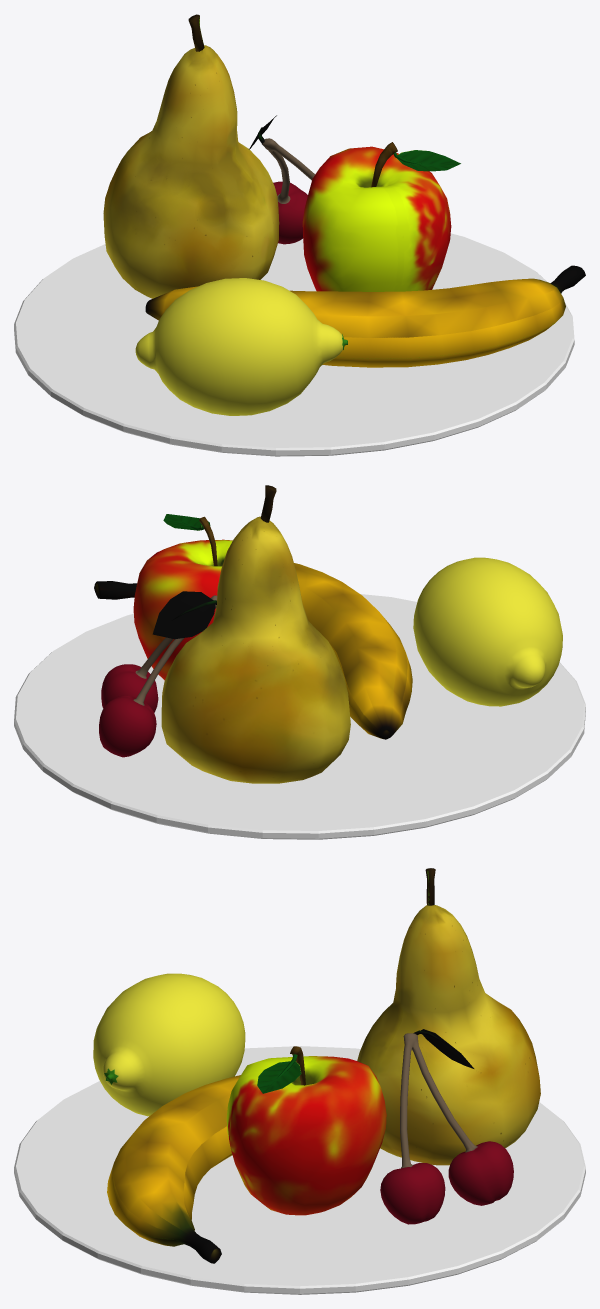
File: obst_nodes.gltf
3 renders of one model, top to bottom at view 1: azimuth 30°, elevation 25°; view 2: azimuth 150°, elevation 25°; view 3: azimuth 270°, elevation 25°, orthographic. The views are drawn at different scales.
Parts seen in each view (by area): view 1: Circle, birne, Mesh.010, apfel, banane, kirsche; view 2: Circle, birne, Mesh.010, banane, kirsche, apfel; view 3: Circle, birne, apfel, Mesh.010, banane, kirsche.
Boxes of the visible parts, <box> form: Circle: <box>14,233,574,456</box>; birne: <box>103,14,279,298</box>; Mesh.010: <box>135,278,347,415</box>; apfel: <box>302,142,460,291</box>; banane: <box>145,265,585,367</box>; kirsche: <box>249,115,314,244</box>; Circle: <box>14,594,585,839</box>; birne: <box>161,485,350,783</box>; Mesh.010: <box>413,557,562,706</box>; banane: <box>94,563,412,739</box>; kirsche: <box>99,591,217,757</box>; apfel: <box>133,514,232,680</box>; Circle: <box>14,1046,585,1294</box>; birne: <box>357,868,540,1165</box>; apfel: <box>226,1046,386,1215</box>; Mesh.010: <box>93,973,245,1116</box>; banane: <box>107,1075,240,1263</box>; kirsche: <box>380,1029,513,1224</box>.
Bounding box in the file's own units: 3.52 × 1.95 × 3.5.
Materials: 8 (3 with a texture image).
